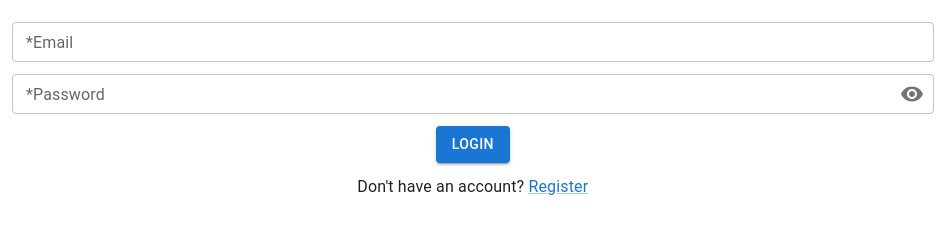
Test: LoginForm › button disabled with invalid email
Type "test" into the field with placeholder "Email". click: (473,42)
box: [12,22,934,62]
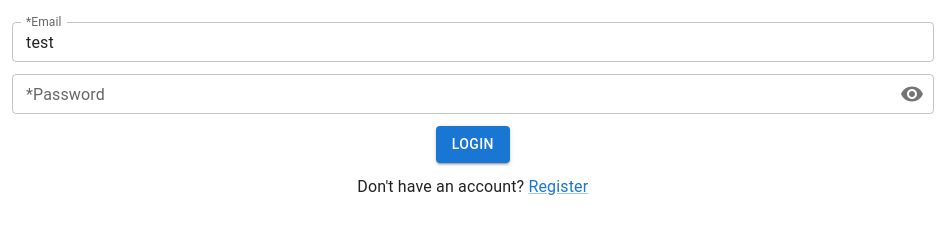
Type "FRgdfhgsdfhfh234" into the password field with placeholder "Password". click: (448,94)
box: [12,74,884,114]
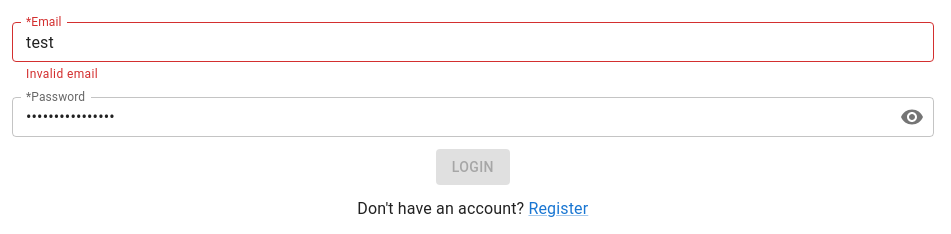
Expected: the button with test id "login-btn" is disabled, [436,149,510,185]
